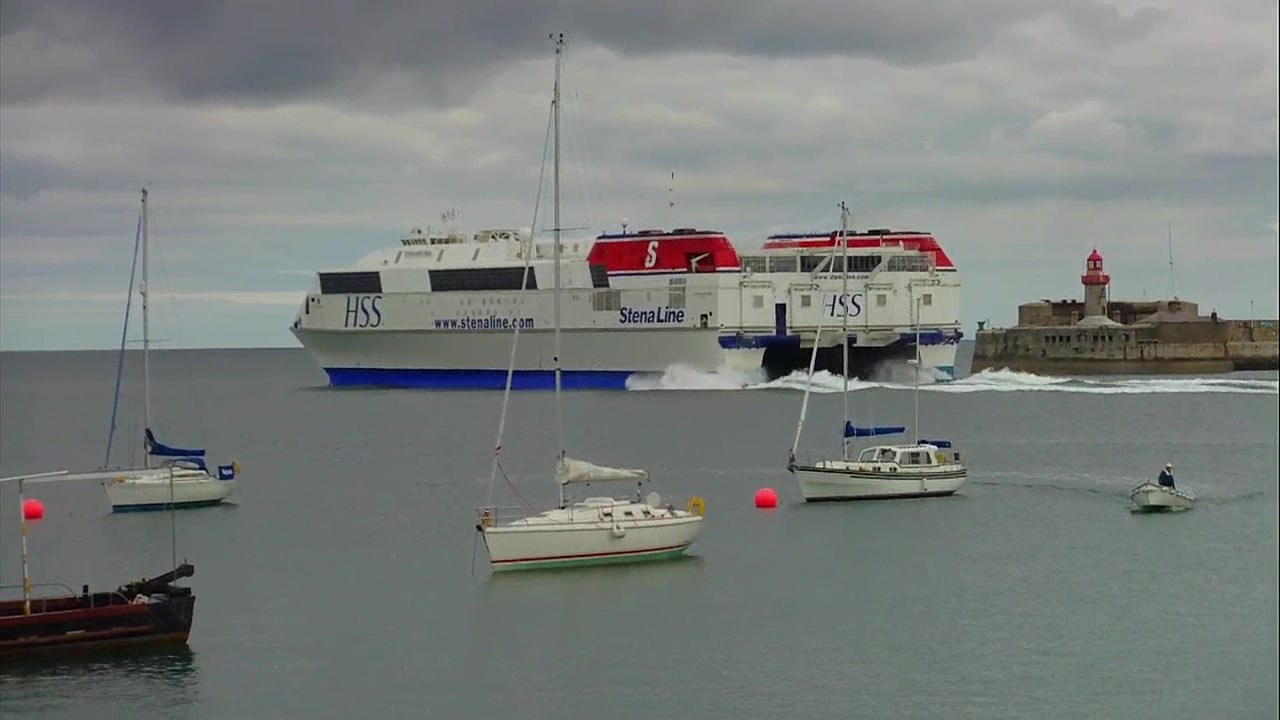boat: (289, 212, 968, 396)
